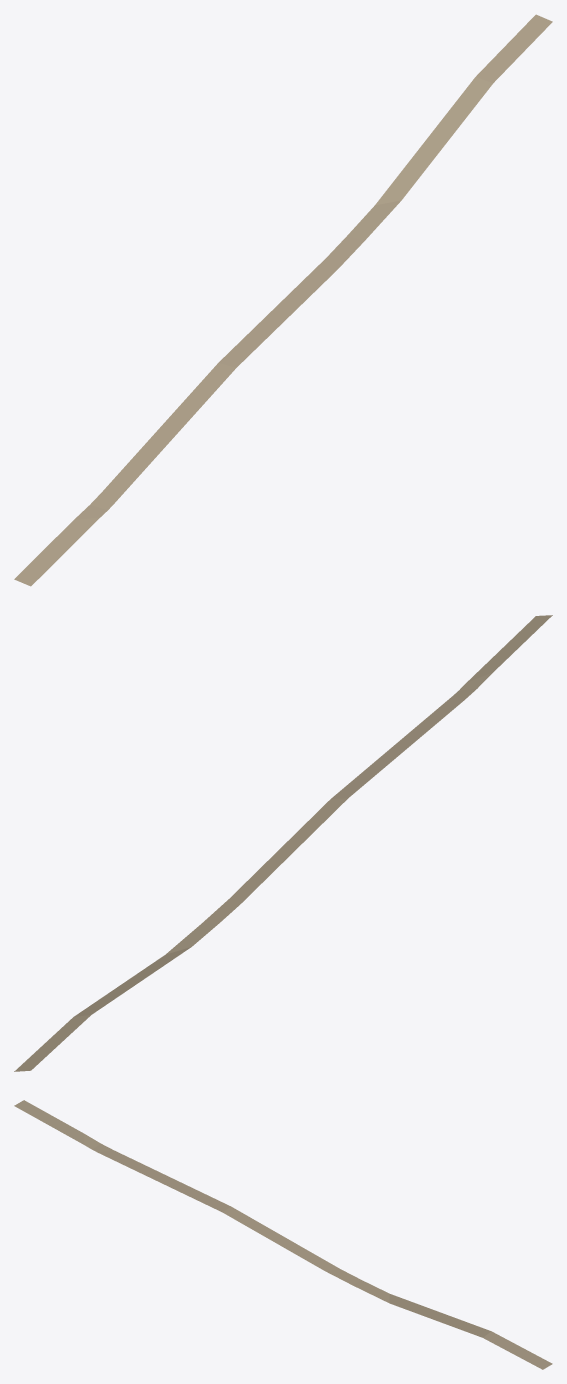
Rendered from farm_-4_-5_track.glb.
3 views of the same model, one above another, from view 1: azimuth 30°, elevation 25°; view 2: azimuth 210°, elevation 25°; view 3: azimuth 270°, elevation 25° (orthographic). The views are drawn at different scales.
Visible parts, largest first — view 1: geometry_0; view 2: geometry_0; view 3: geometry_0.
Boxes of the visible parts, x1,y1,x2,y2 form: geometry_0: (14,14,552,586); geometry_0: (14,615,552,1071); geometry_0: (14,1100,552,1369).
Bounding box in the file's own units: 188 × 11.43 × 141.
